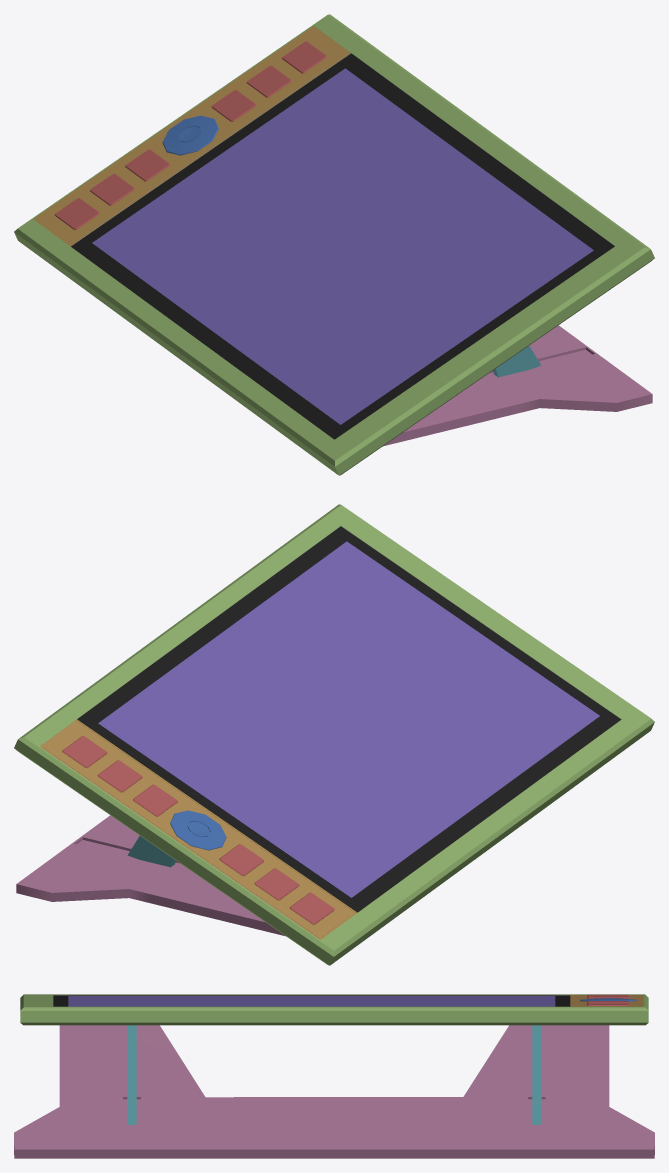
Rendered from tablet.fbx.
3 renders of one model, top to bottom at view 1: azimuth 30°, elevation 25°; view 2: azimuth 150°, elevation 25°; view 3: azimuth 270°, elevation 25°, orthographic. The views are drawn at different scales.
Parts seen in each view (by area): view 1: polySurface12, polySurface13, polySurface22, polySurface17, polySurface19, polySurface21, polySurface18, polySurface16, polySurface20, polySurface15; view 2: polySurface12, polySurface13, polySurface22, polySurface17, polySurface21, polySurface16, polySurface18, polySurface20, polySurface19, polySurface14; view 3: polySurface13, polySurface12, polySurface14, polySurface15.
Part boxes in pixels (<box>): polySurface12: <box>14,14,654,475</box>; polySurface13: <box>383,325,652,446</box>; polySurface22: <box>162,115,218,155</box>; polySurface17: <box>247,65,291,97</box>; polySurface19: <box>125,149,170,181</box>; polySurface21: <box>54,198,99,229</box>; polySurface18: <box>282,41,326,73</box>; polySurface16: <box>211,90,256,121</box>; polySurface20: <box>90,173,134,205</box>; polySurface15: <box>493,346,541,377</box>; polySurface12: <box>14,504,654,965</box>; polySurface13: <box>16,815,285,936</box>; polySurface22: <box>170,810,226,850</box>; polySurface17: <box>97,760,142,792</box>; polySurface21: <box>289,892,334,924</box>; polySurface16: <box>133,784,177,816</box>; polySurface18: <box>62,736,107,767</box>; polySurface20: <box>254,868,299,900</box>; polySurface19: <box>219,844,264,875</box>; polySurface14: <box>127,836,175,867</box>; polySurface13: <box>14,1025,654,1158</box>; polySurface12: <box>20,994,648,1025</box>; polySurface14: <box>532,1025,541,1124</box>; polySurface15: <box>127,1025,136,1124</box>.
Size of the model in its own units: 450 by 206 by 798.
